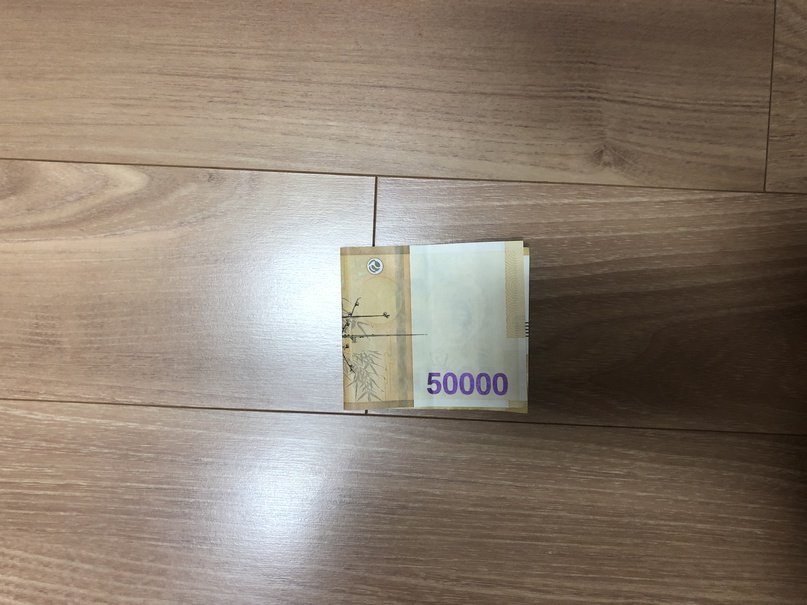50000won: (340, 241, 530, 413)
